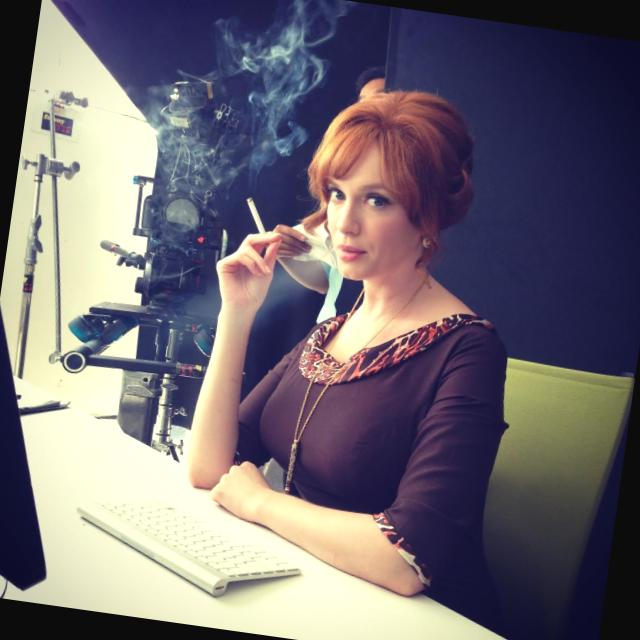cigarette: (222, 183, 288, 258)
